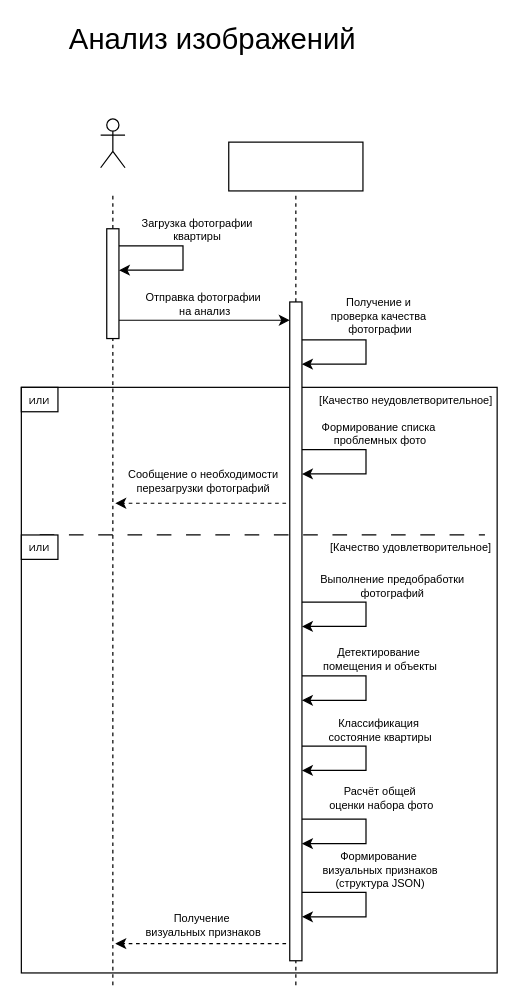
The diagram is 519 pixels wide and 1008 high, and some of its shapes have lost their labels. The centre of each missing label's shape, as x and y in pixels:
"CV-сервис" goes at point 295,166.
"Арендодатель" goes at point 112,143.
